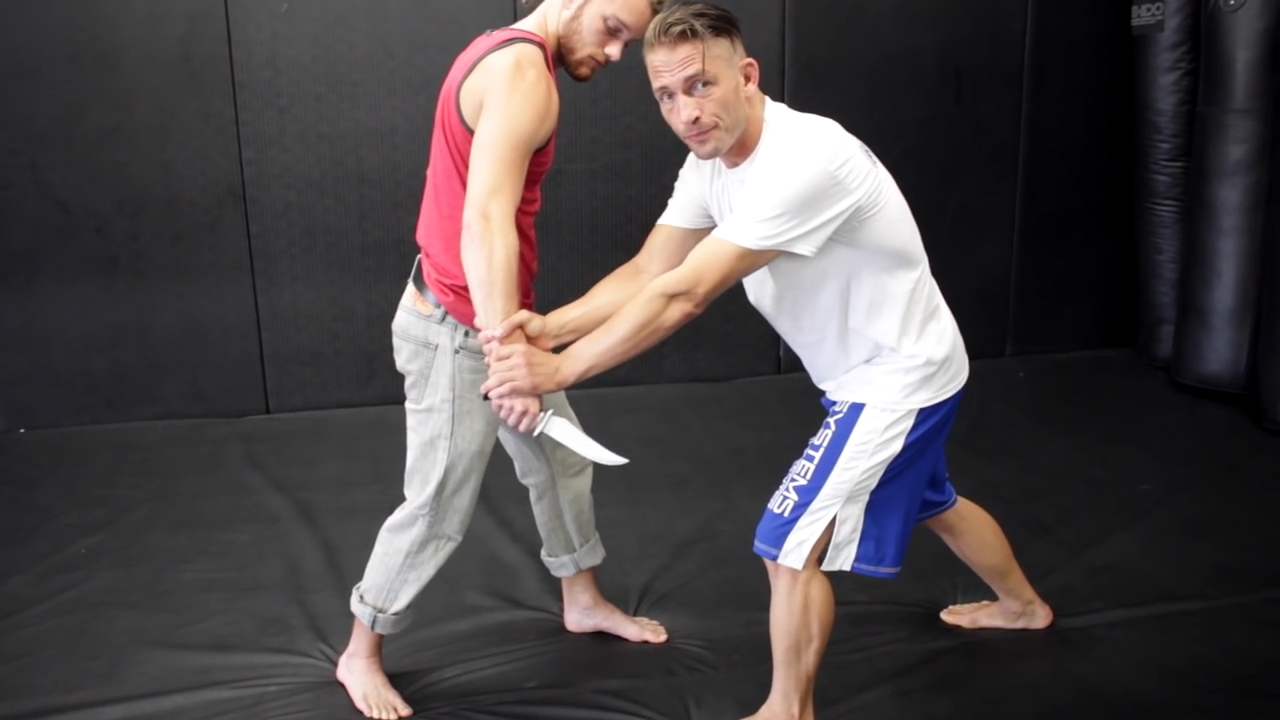knife: (475, 378, 643, 478)
